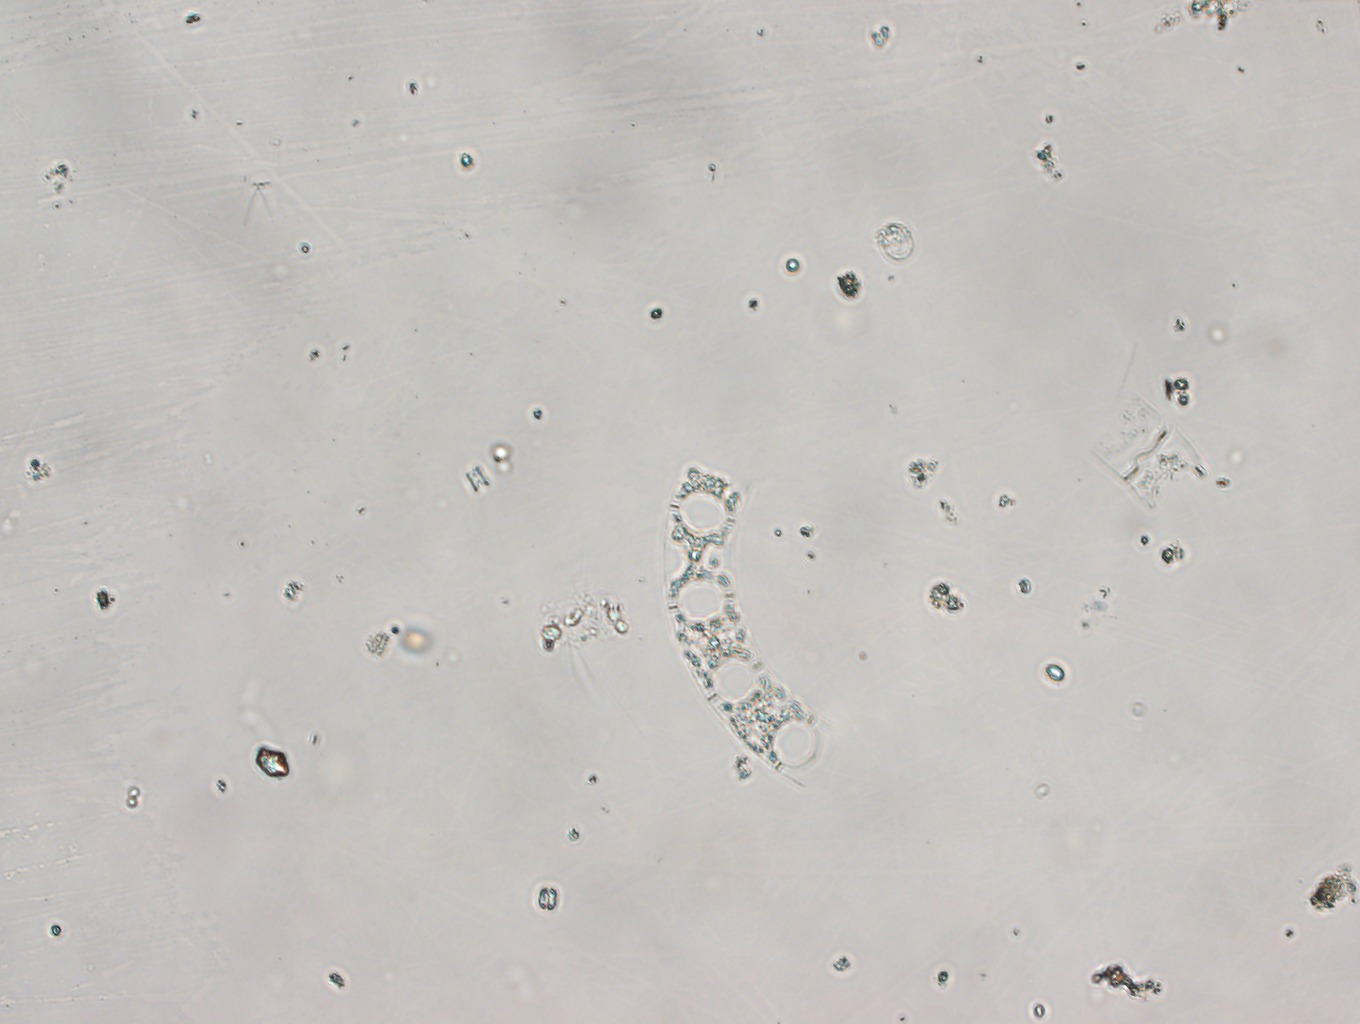eucampia: (662, 464, 824, 791)
